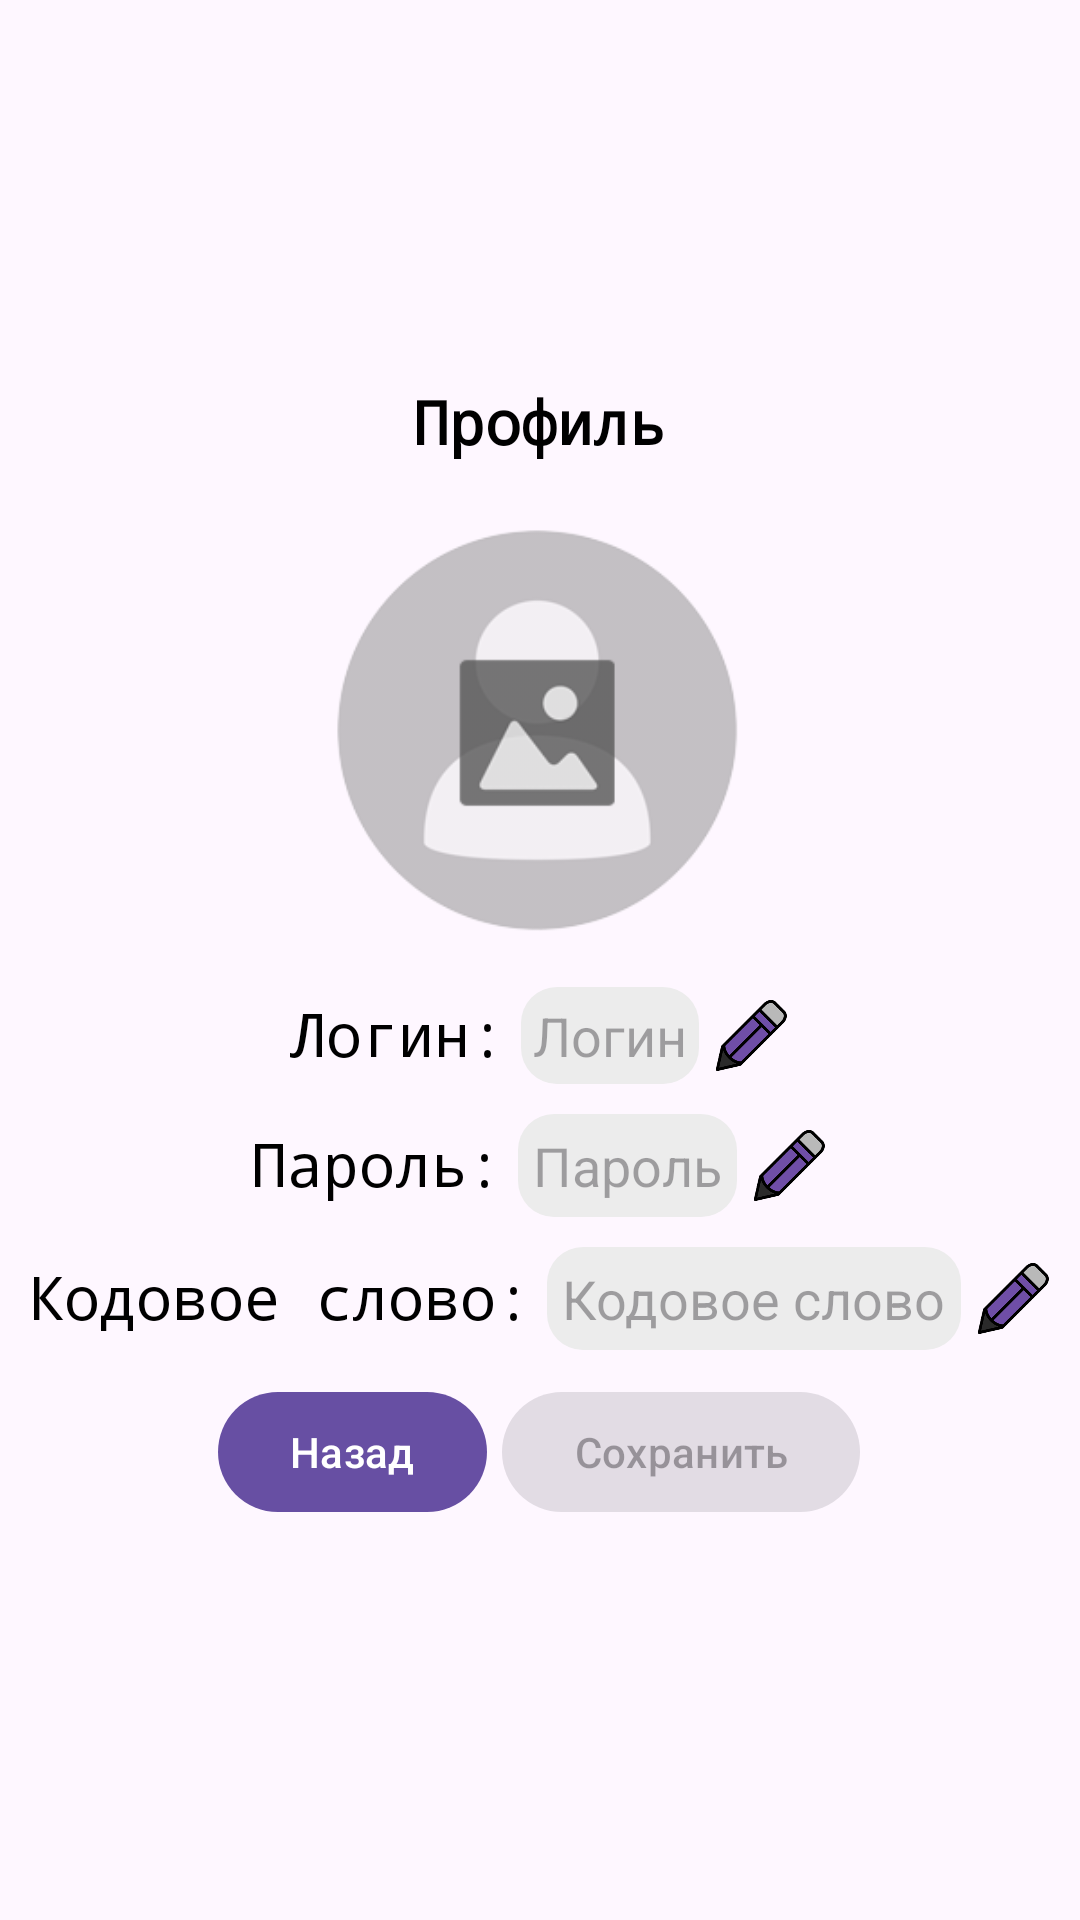

Where to tap for icons on this 1080 × 1920 app screen, as point (x, y):
change data: point (751, 1035), point (789, 1165), point (1013, 1298)
